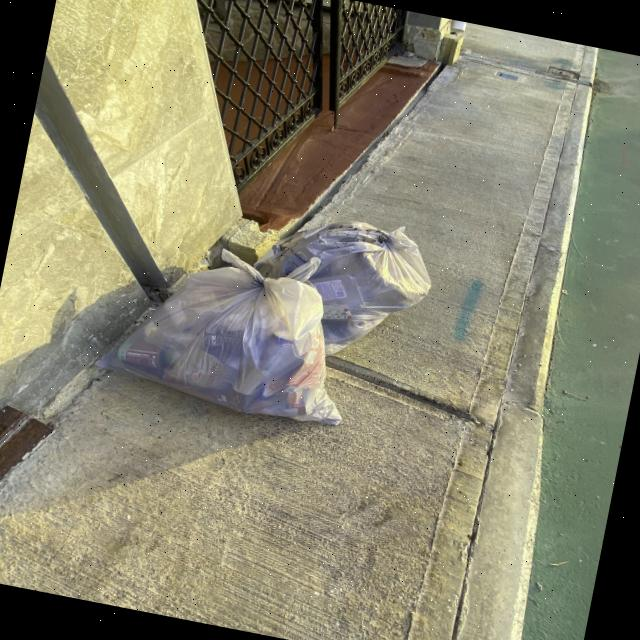Recyclable Material: (100, 242, 374, 435), (238, 202, 442, 371)
